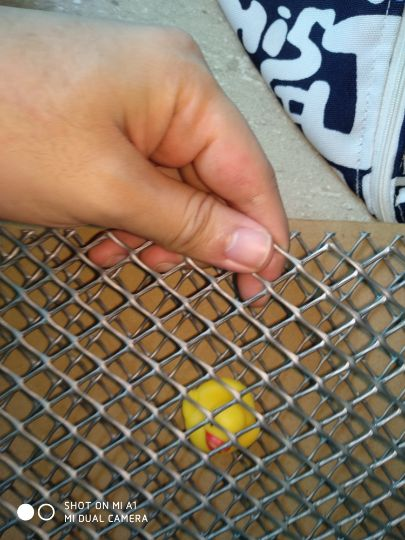unknownObject: (180, 379, 260, 452)
